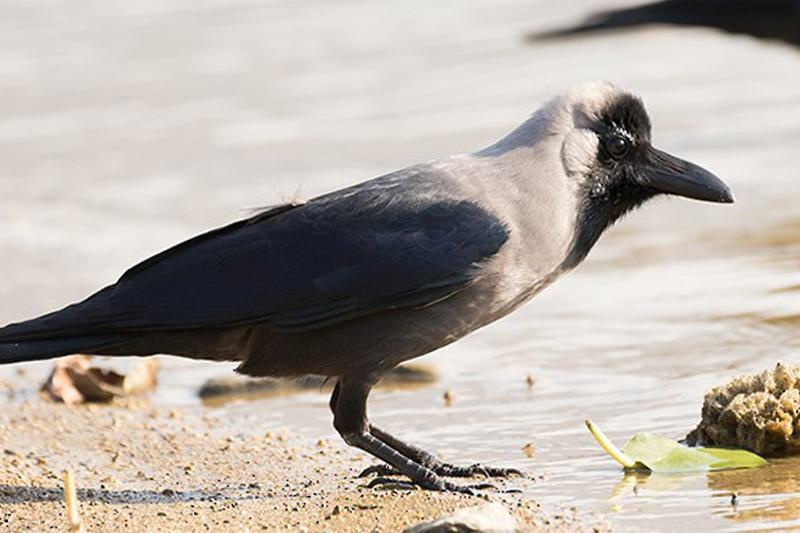crow: (1, 75, 744, 504)
